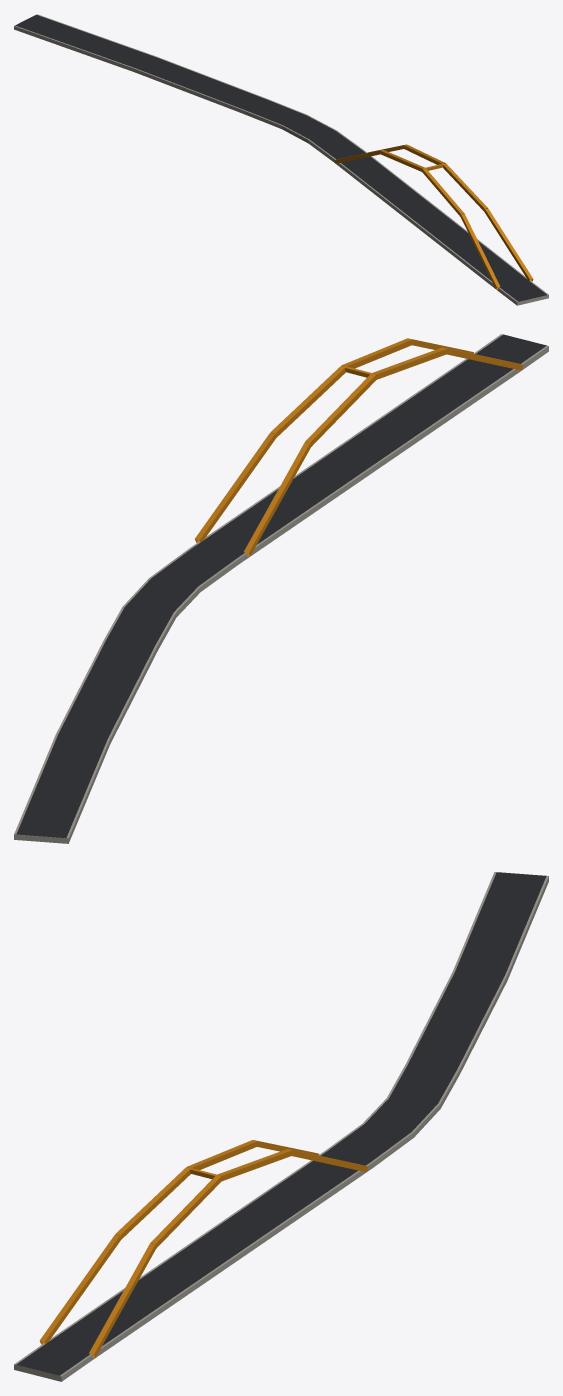
File: jembatan-siak-3-lod2.glb
3 views of the same model, one above another, from view 1: azimuth 30°, elevation 25°; view 2: azimuth 150°, elevation 25°; view 3: azimuth 330°, elevation 25° (orthographic). The views are drawn at different scales.
Parts seen in each view (by area): view 1: jembatan-siak-3_LOD2; view 2: jembatan-siak-3_LOD2; view 3: jembatan-siak-3_LOD2.
Boxes of the visible parts, box(x1,y1,x2,y2) form: jembatan-siak-3_LOD2: box(14, 14, 548, 305); jembatan-siak-3_LOD2: box(14, 334, 548, 843); jembatan-siak-3_LOD2: box(14, 872, 548, 1381).
Size of the model in its own units: 69.87 by 28.6 by 366.
